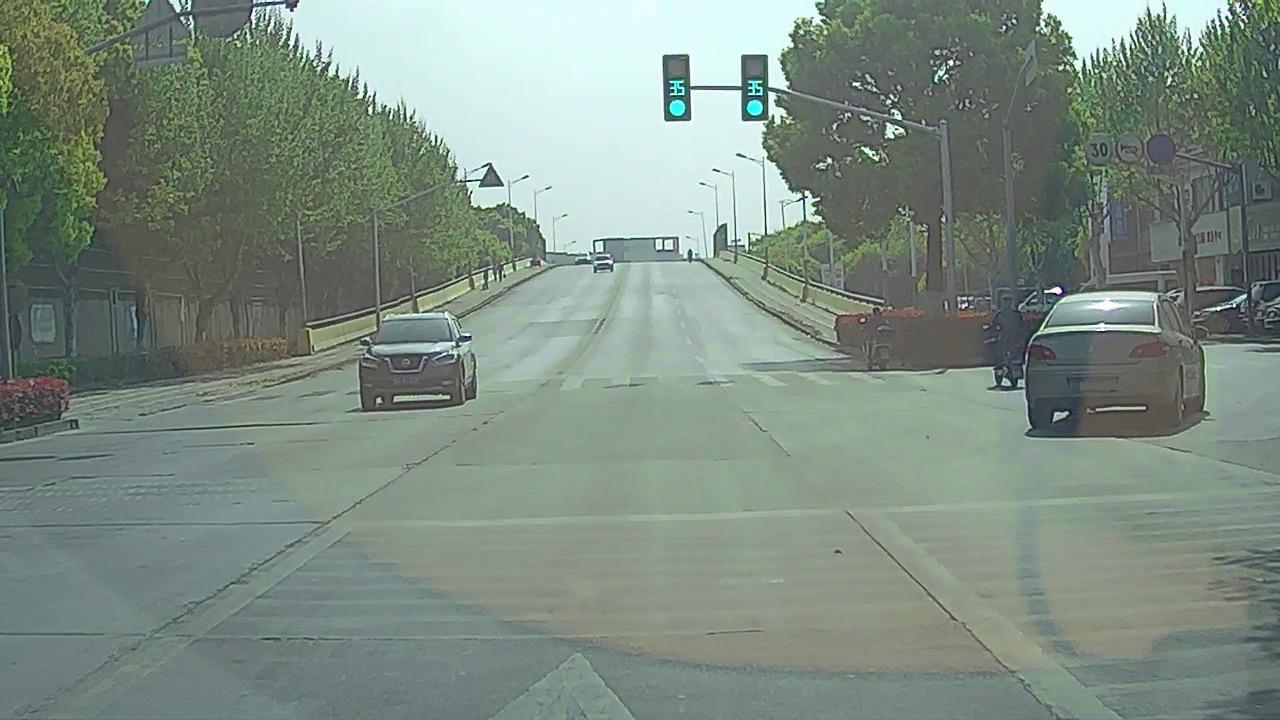traffic_light: (664, 55, 690, 121), (744, 56, 769, 120)
